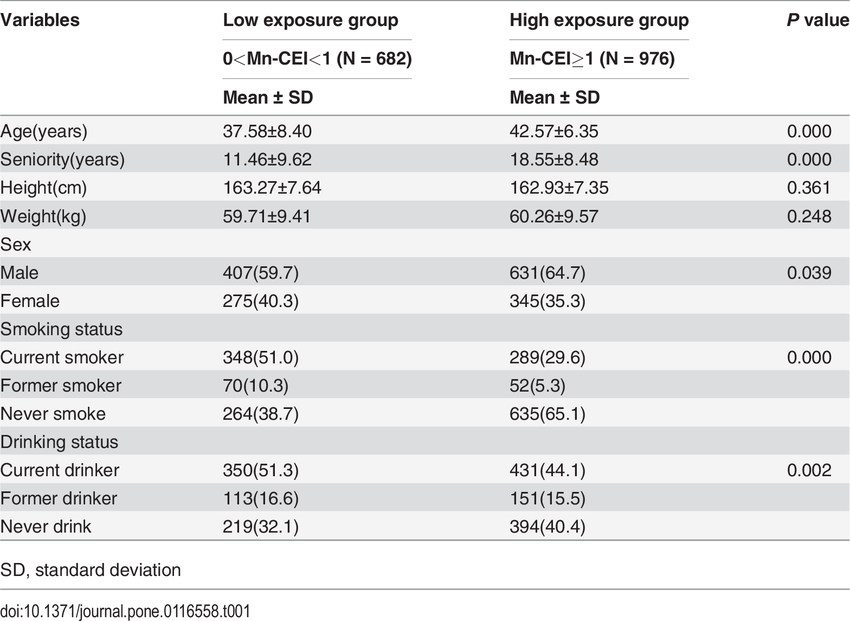fracking table: (1, 1, 850, 542)
